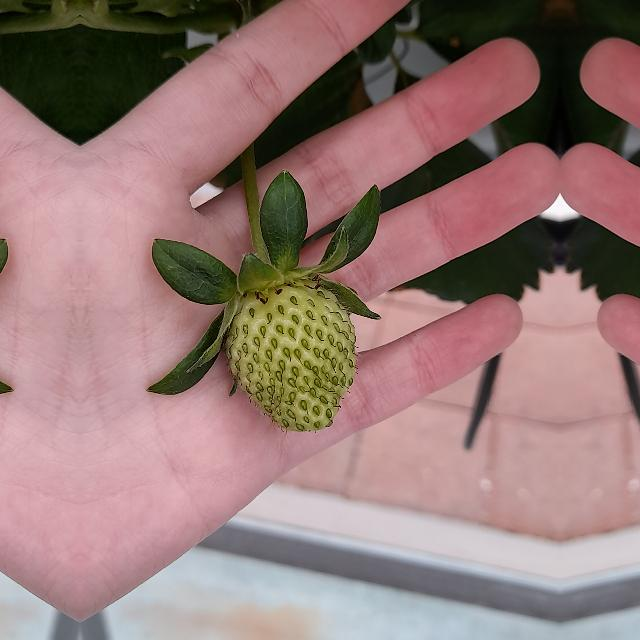Health_25: (226, 278, 356, 430)
